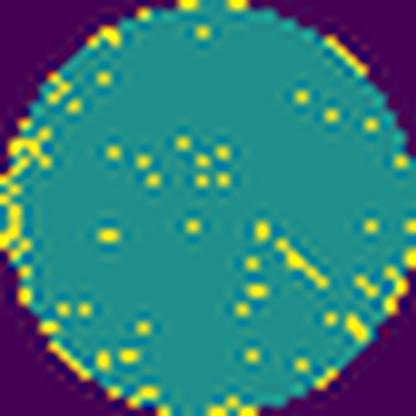Edge-Loc: (0, 125, 50, 254), (385, 238, 415, 311)
